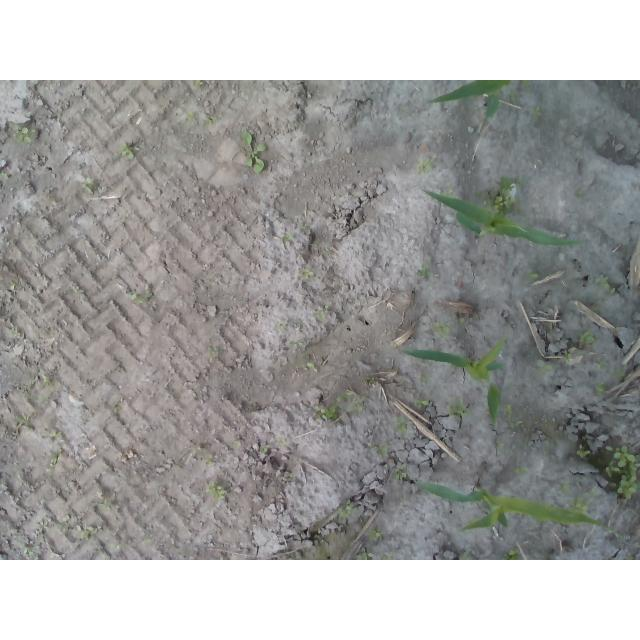Maize: (409, 470, 607, 542), (420, 187, 593, 258)
Weeds: (239, 131, 274, 178), (206, 454, 236, 506), (321, 404, 336, 421)
